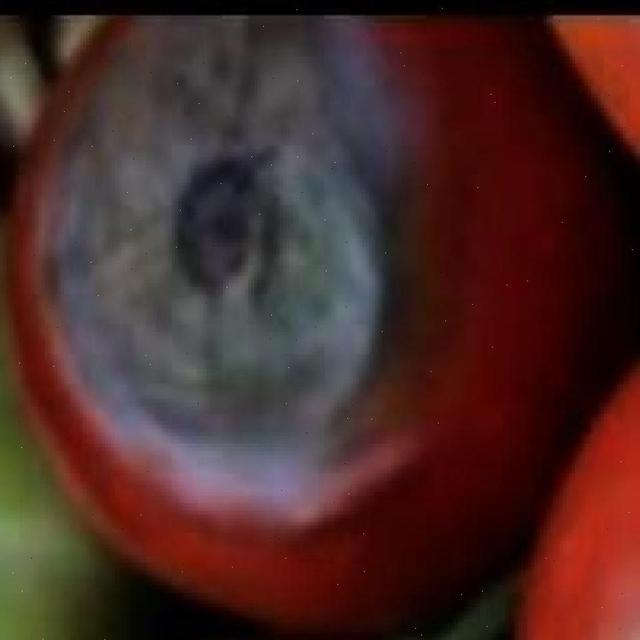Blossom End Rot Fruit: (11, 5, 303, 362)
